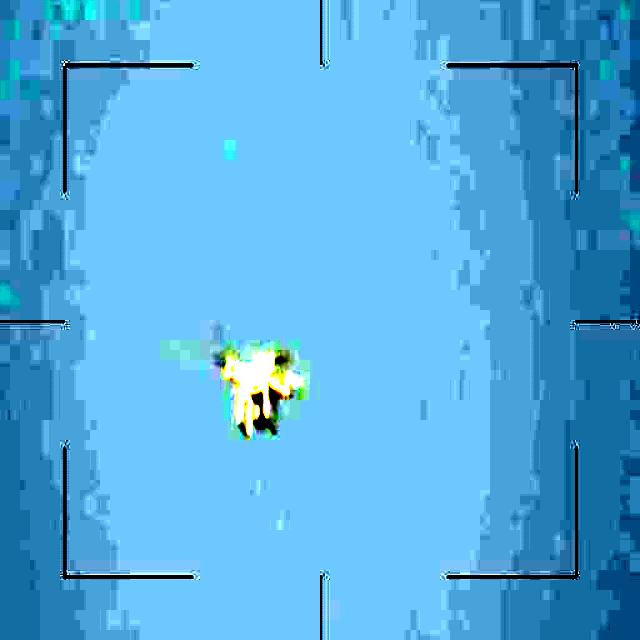bird: (211, 342, 299, 438)
